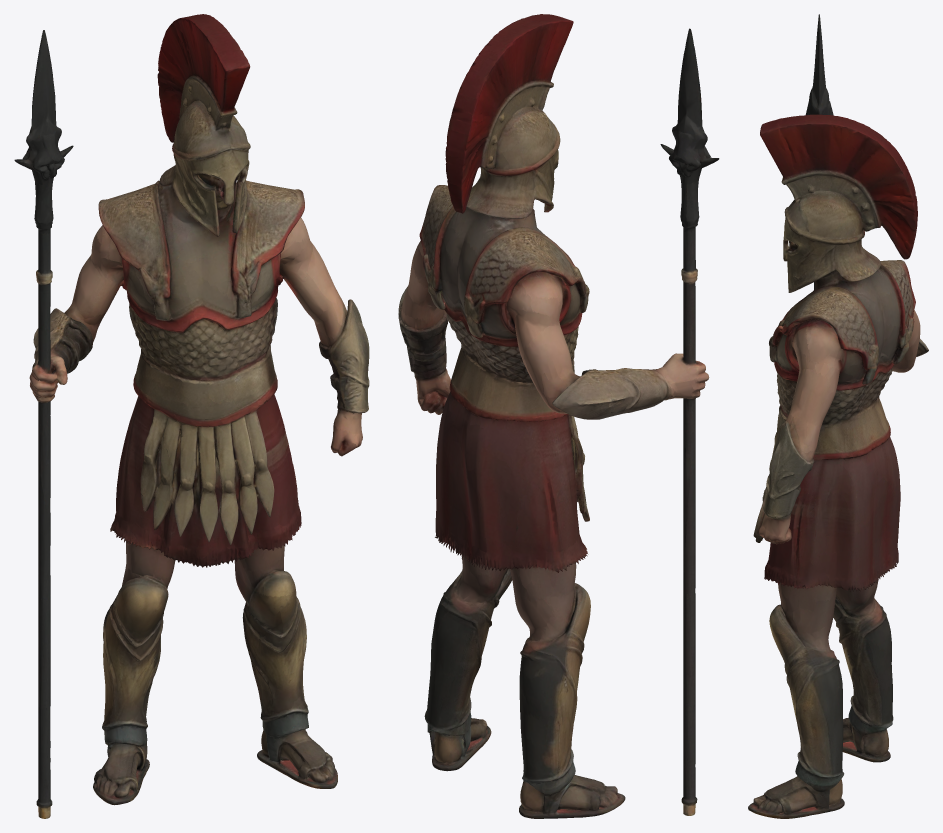
The model's file is hoplite__red-crested-hoplite.glb.
The picture shows the model from 3 angles, left to right: view 1: azimuth 30°, elevation 25°; view 2: azimuth 150°, elevation 25°; view 3: azimuth 270°, elevation 25°; orthographic projection. The views are drawn at different scales.
Size of the model in its own units: 0.8798 by 2 by 0.4745.
1 material, 1 textured.
